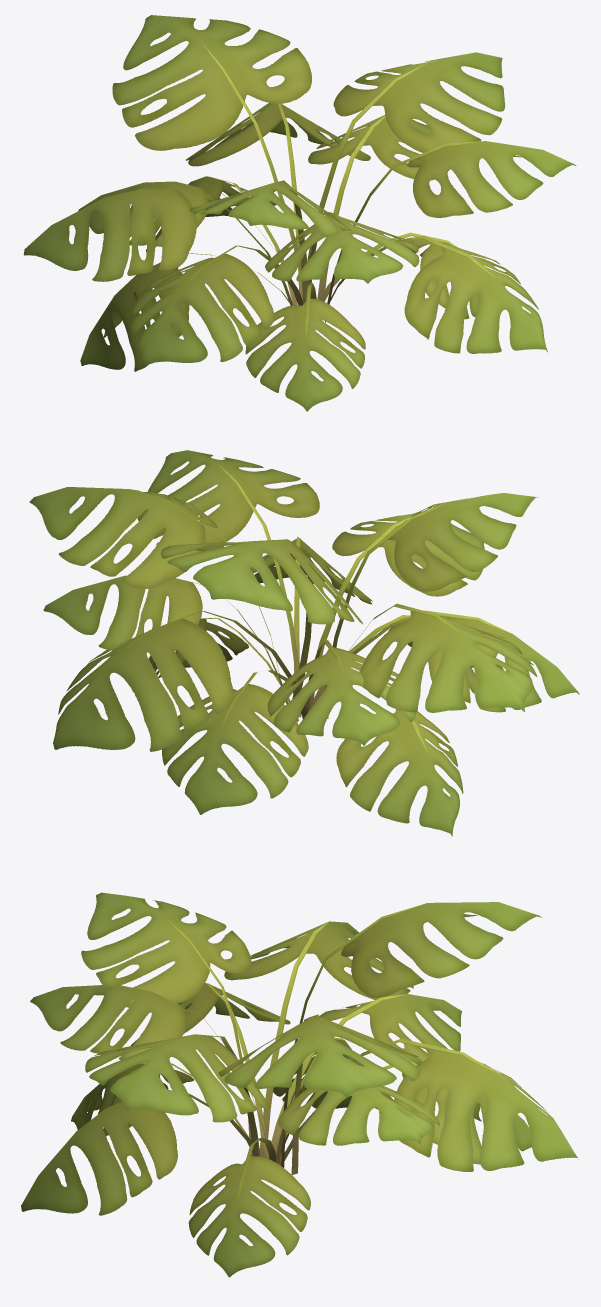
File: monstera 01_lod2.obj
3 views of the same model, one above another, from view 1: azimuth 30°, elevation 25°; view 2: azimuth 150°, elevation 25°; view 3: azimuth 270°, elevation 25° (orthographic). The views are drawn at different scales.
Visible parts, largest first — view 1: tree; view 2: tree; view 3: tree.
Part boxes in pixels (x1,y1,x2,y2): tree: (23,15,576,411); tree: (29,450,579,836); tree: (21,892,578,1277).
Bounding box in the file's own units: 190 × 107 × 179.
